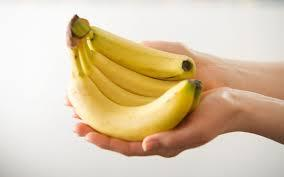banana: (51, 24, 232, 147)
